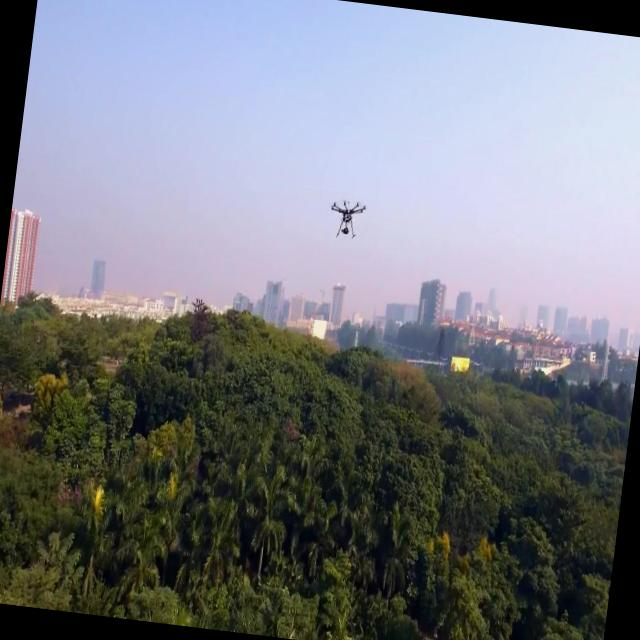drone: (324, 194, 368, 242)
